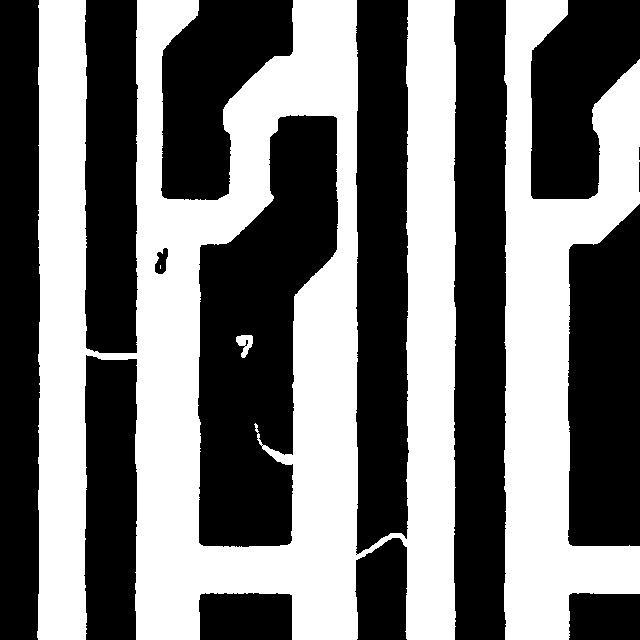copper: (145, 238, 177, 283)
mousebite: (244, 413, 304, 474)
open: (342, 523, 418, 569), (68, 338, 147, 369)
pin-hole: (226, 325, 262, 367)
